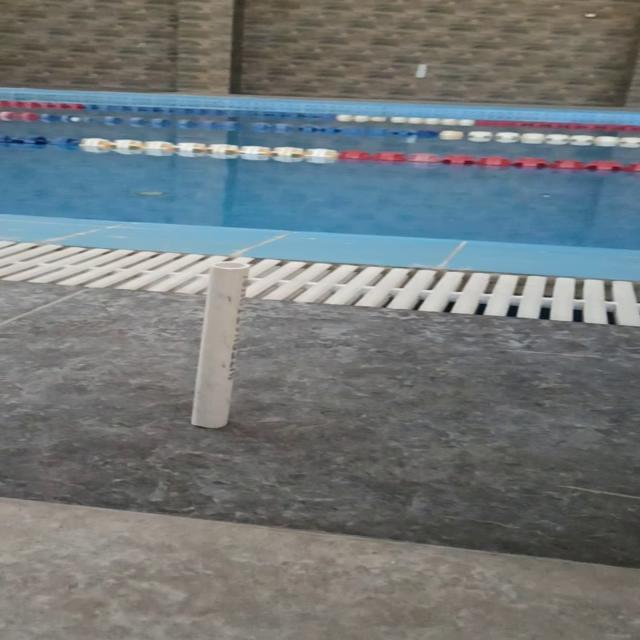Cube: (188, 260, 250, 428)
